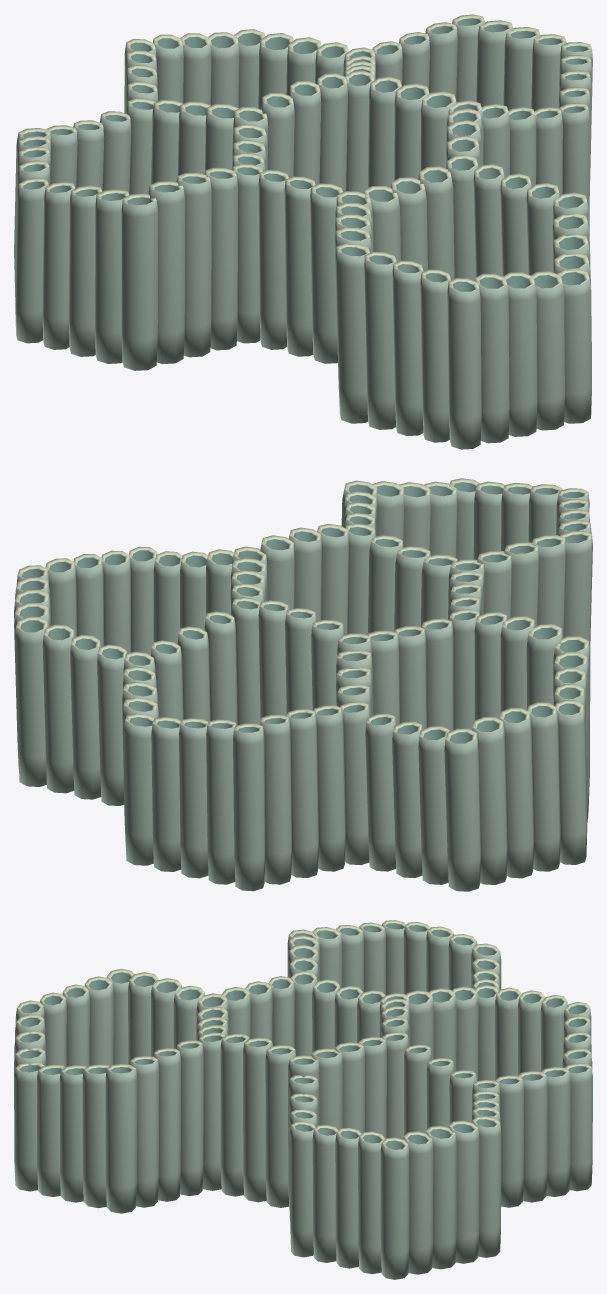
The model's file is halysites.glb.
The picture shows the model from 3 angles, top to bottom: view 1: azimuth 30°, elevation 25°; view 2: azimuth 150°, elevation 25°; view 3: azimuth 270°, elevation 25°; orthographic projection. The views are drawn at different scales.
Parts seen in each view (by area): view 1: open-looping-chains-of-upright-corallites; view 2: open-looping-chains-of-upright-corallites; view 3: open-looping-chains-of-upright-corallites.
Part boxes in pixels (x1=…): open-looping-chains-of-upright-corallites: x1=14, y1=14, x2=592, y2=449; open-looping-chains-of-upright-corallites: x1=14, y1=478, x2=592, y2=891; open-looping-chains-of-upright-corallites: x1=14, y1=920, x2=592, y2=1279.
Size of the model in its own units: 0.1587 by 0.0486 by 0.1649.
